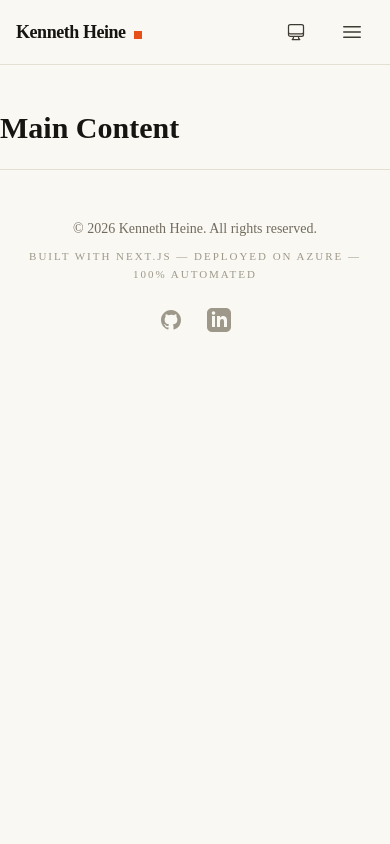
Test case: Keyboard Navigation Integration › Mobile Menu Keyboard Navigation › mobile menu opens and closes with keyboard
The image size is (390, 844).
// Open mobile menu
Click the button named "open main navigation menu".
click(352, 32)  # box [330, 10, 374, 54]
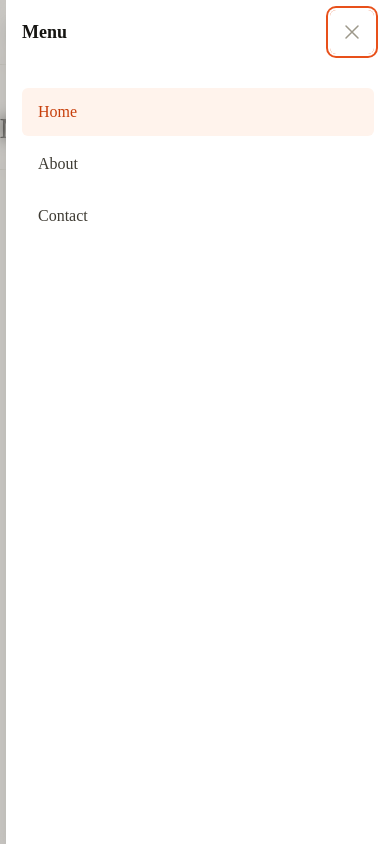
Check: the dialog is shown
// Test Escape key to close
Press Escape
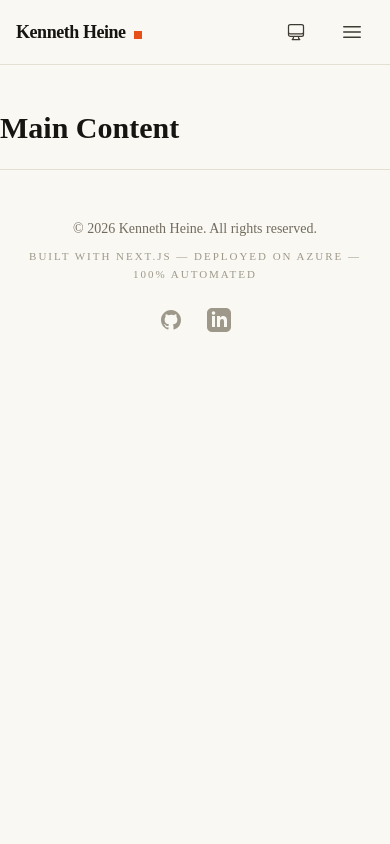
Check: the dialog is gone
